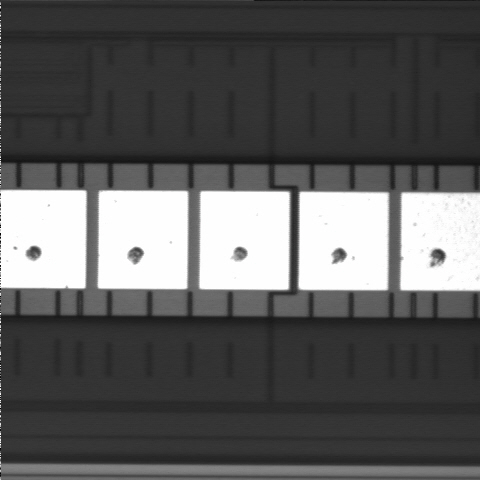pad: (199, 191, 289, 290), (98, 191, 188, 289), (299, 192, 388, 290)
